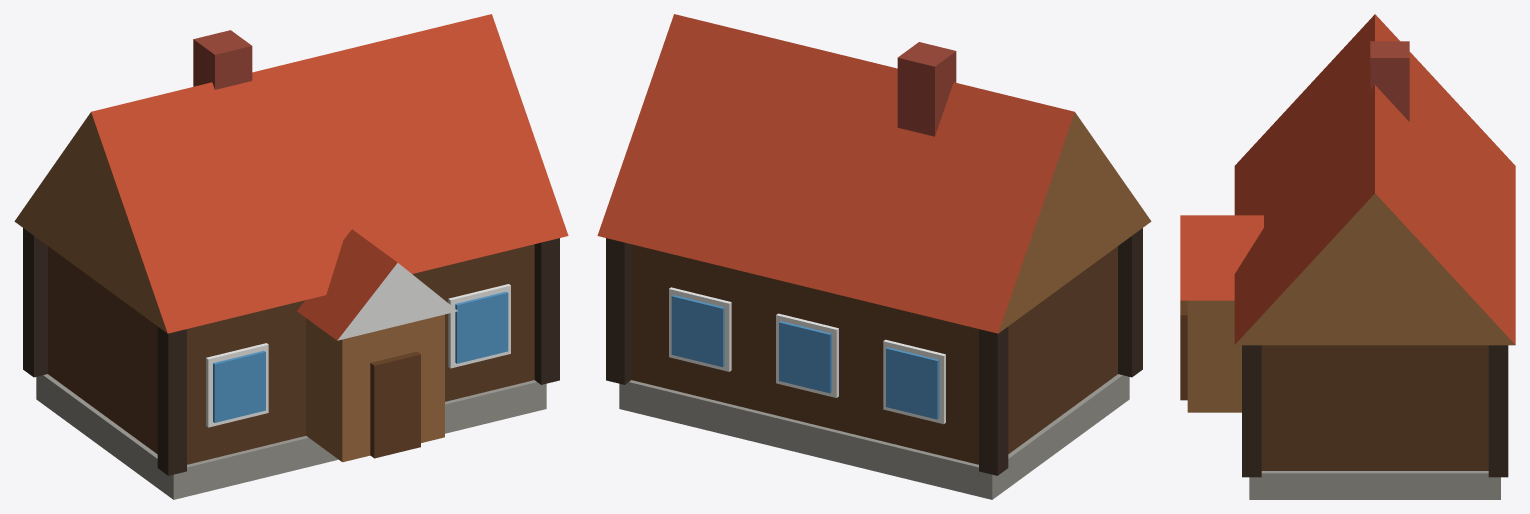
Rendered from 73_lithuanian_troba_3.obj.
The picture shows the model from 3 angles, left to right: view 1: azimuth 30°, elevation 25°; view 2: azimuth 150°, elevation 25°; view 3: azimuth 270°, elevation 25°; orthographic projection. The views are drawn at different scales.
Parts seen in each view (by area): view 1: 73_lithuanian_troba_3; view 2: 73_lithuanian_troba_3; view 3: 73_lithuanian_troba_3.
Boxes of the visible parts, <box> form: 73_lithuanian_troba_3: <box>14,14,568,499</box>; 73_lithuanian_troba_3: <box>597,14,1151,499</box>; 73_lithuanian_troba_3: <box>1180,14,1515,499</box>.
Size of the model in its own units: 1.72 by 1.52 by 1.36.
